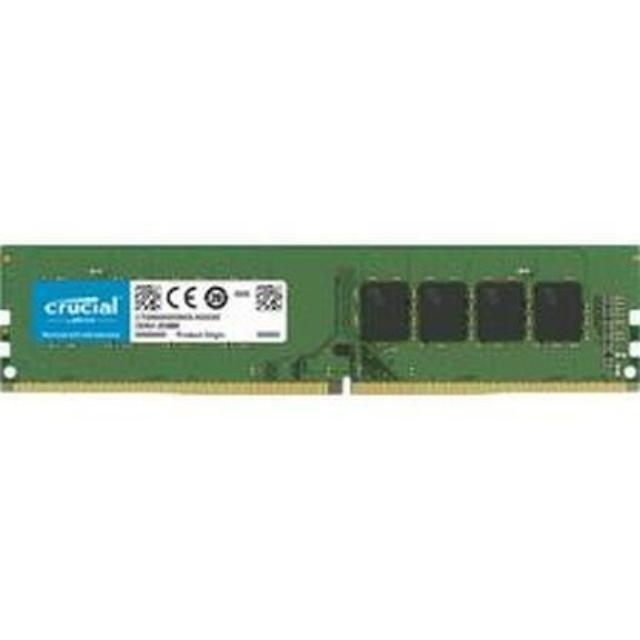RAM: (0, 240, 640, 408)
